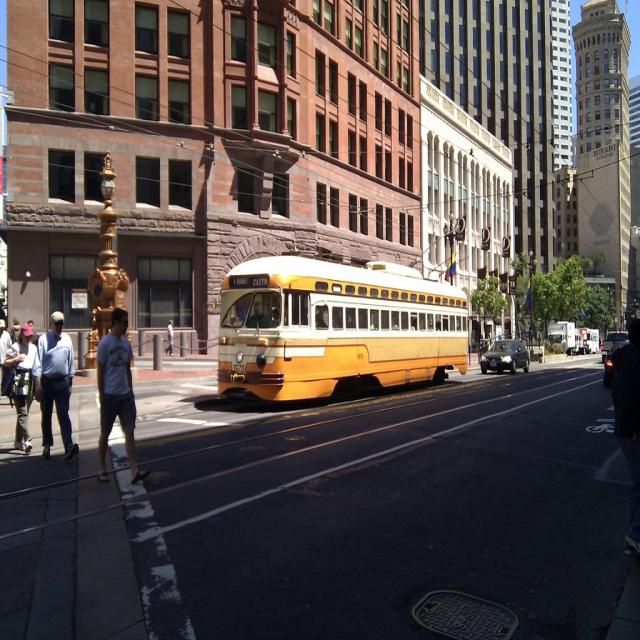other: (479, 334, 529, 374), (601, 331, 628, 363)
